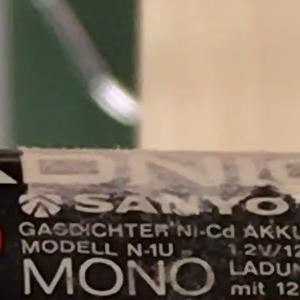NI-CD: (161, 216, 244, 240)
